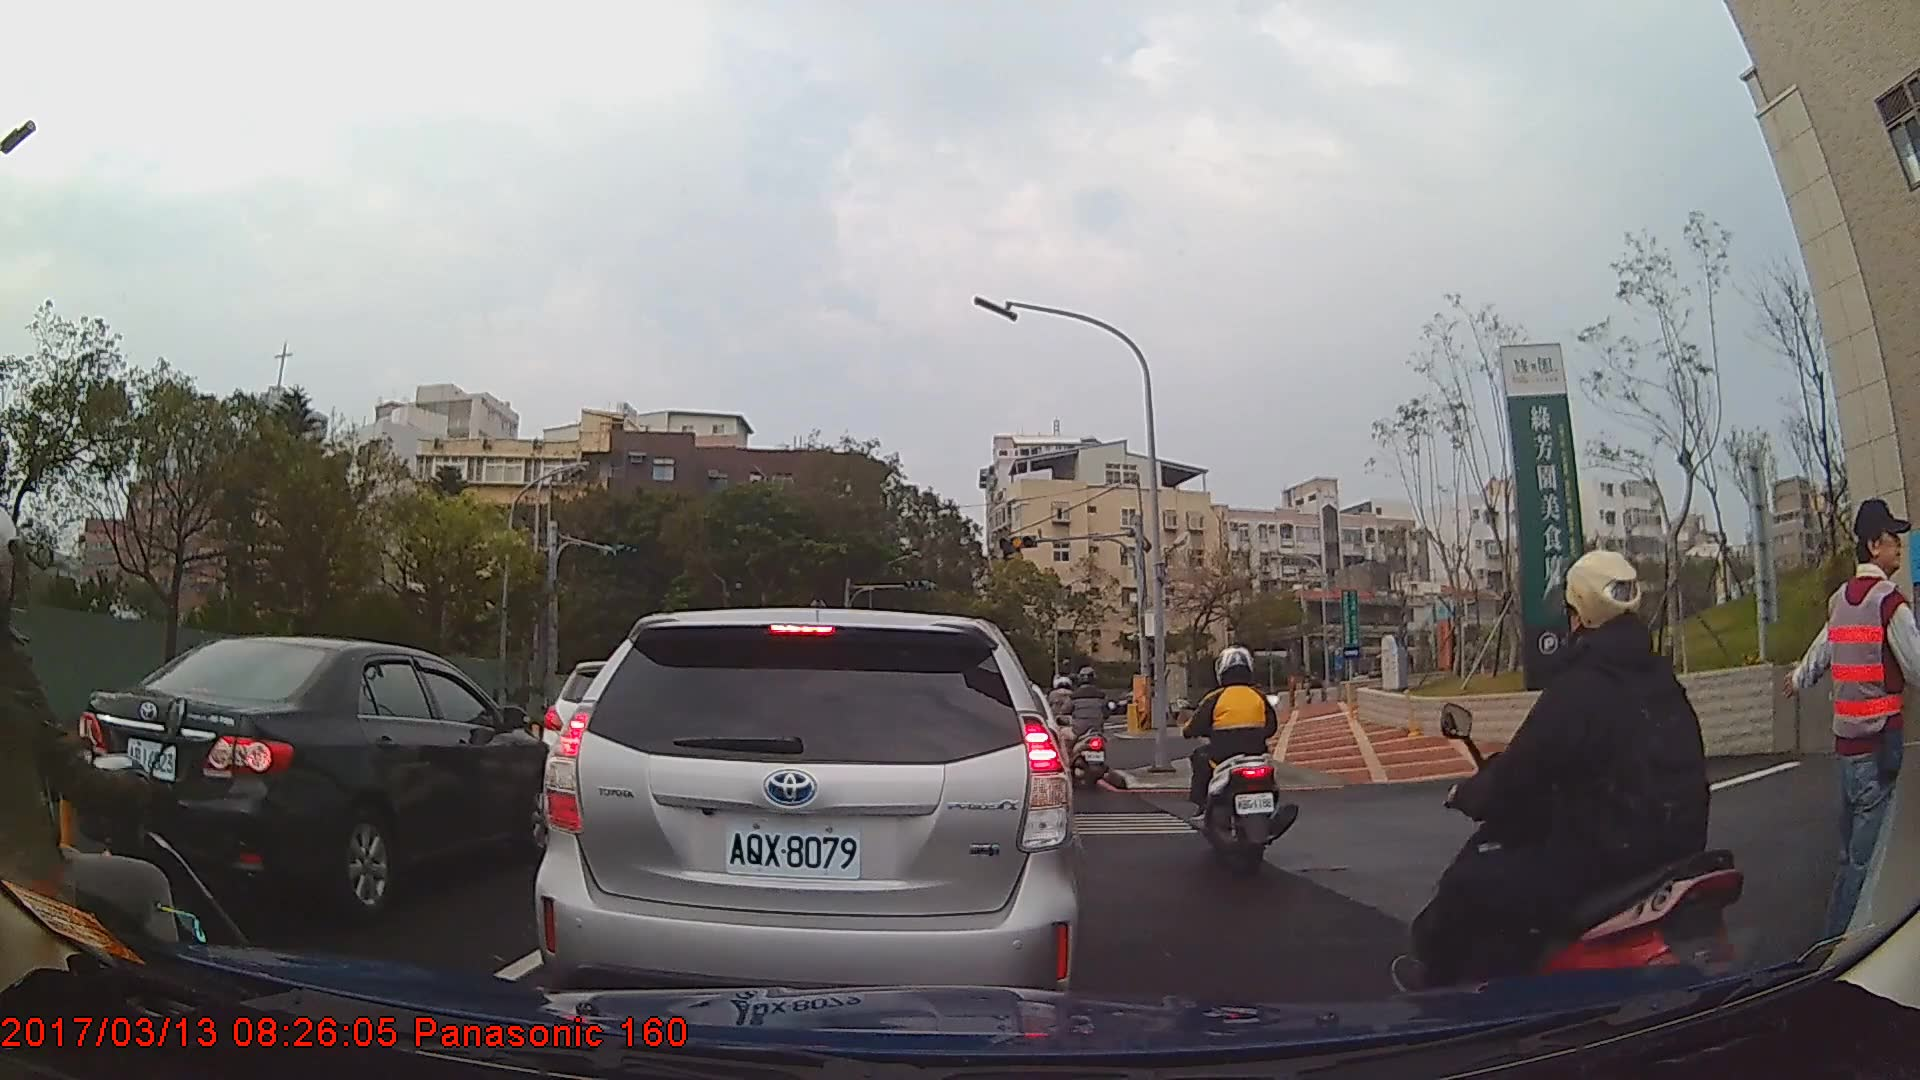pedestrian: (1766, 497, 1920, 978)
rider: (1405, 550, 1755, 1072), (1, 497, 257, 1080), (1186, 643, 1302, 888), (1064, 670, 1116, 791)
vehicle: (534, 605, 1083, 1022), (74, 634, 571, 917)
